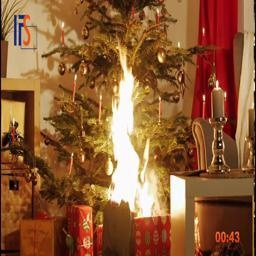fire: (95, 44, 162, 218)
